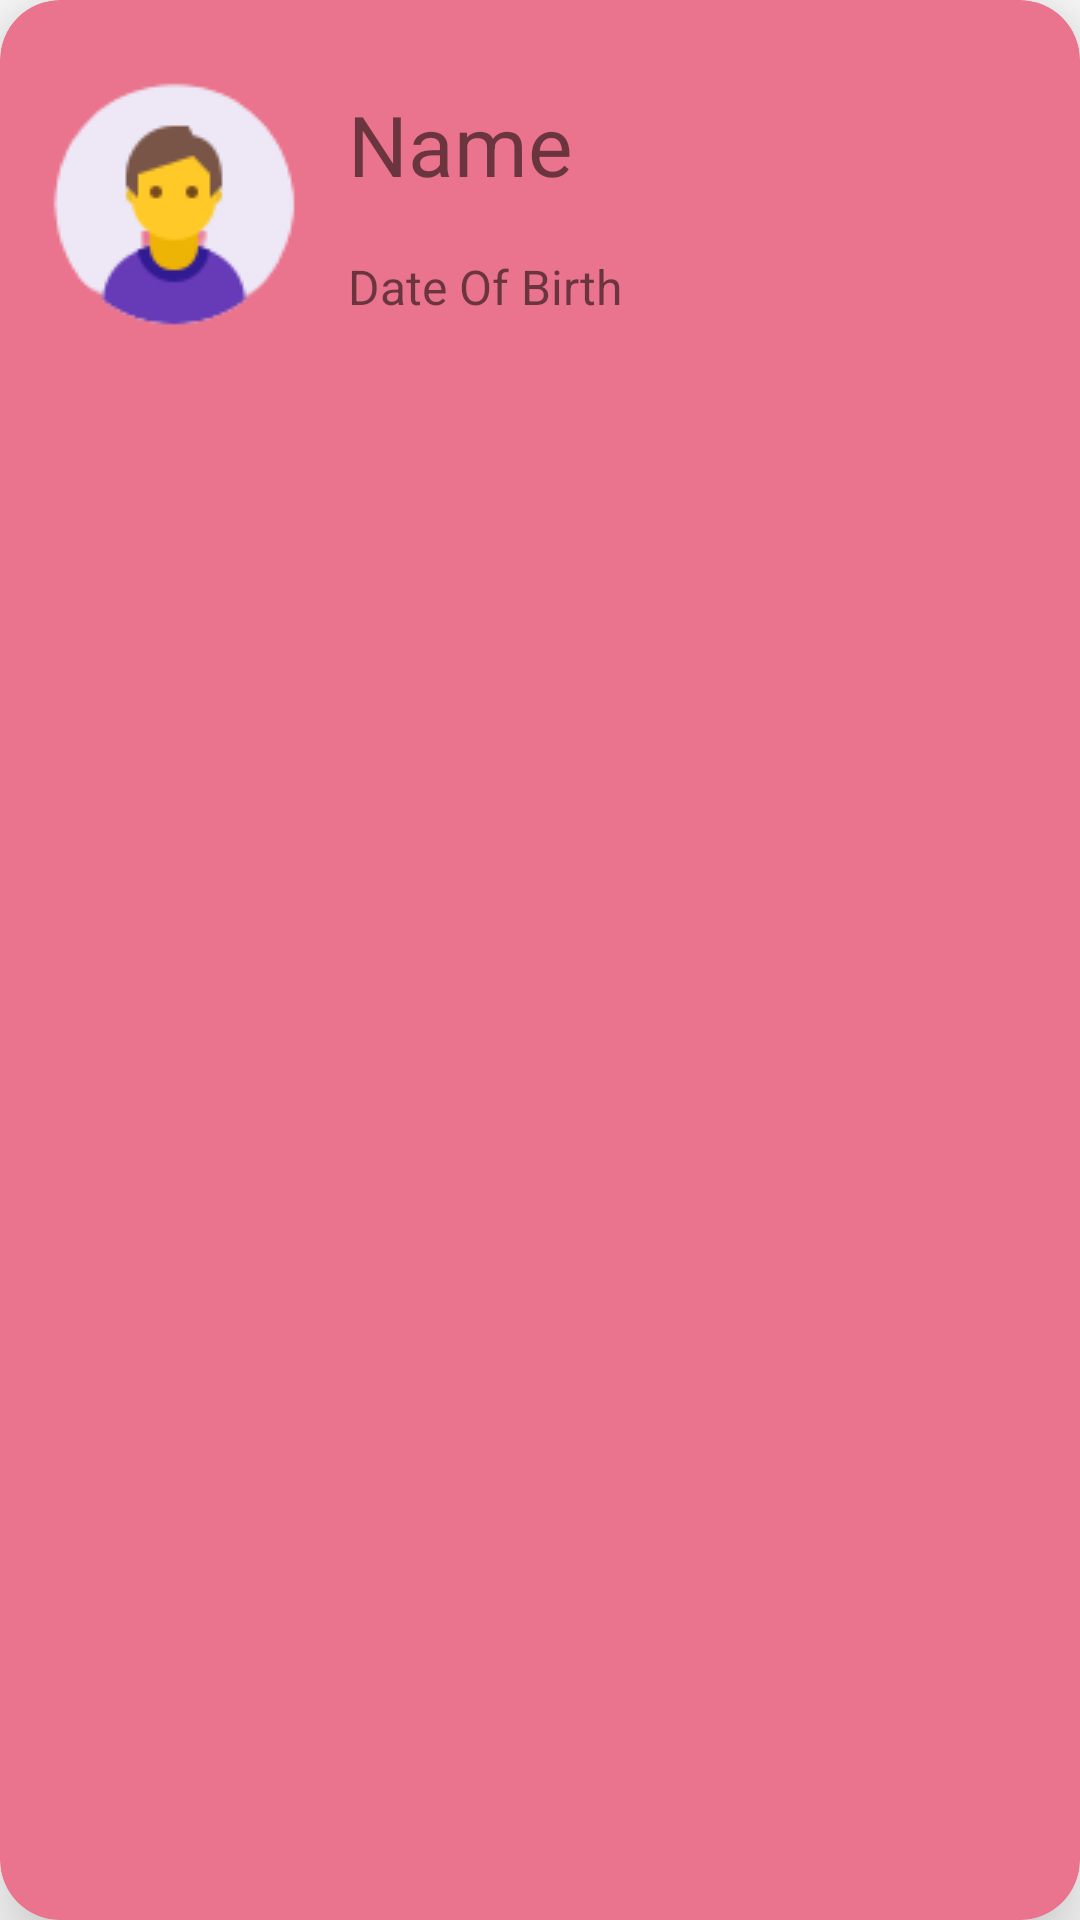

Named icons in this screenshot (1080px x 1920px) and their centers, (x=x, y=y):
male child profile: (x=174, y=204)
